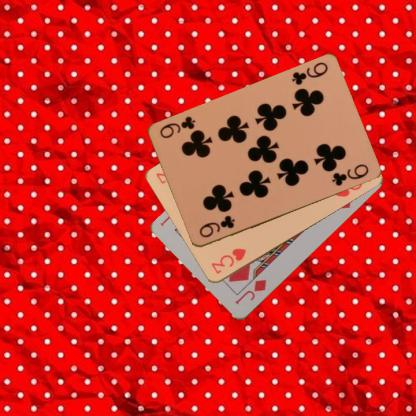3h: (208, 246, 247, 276)
9c: (288, 60, 330, 87), (196, 213, 236, 239)
Jd: (232, 277, 268, 306)
